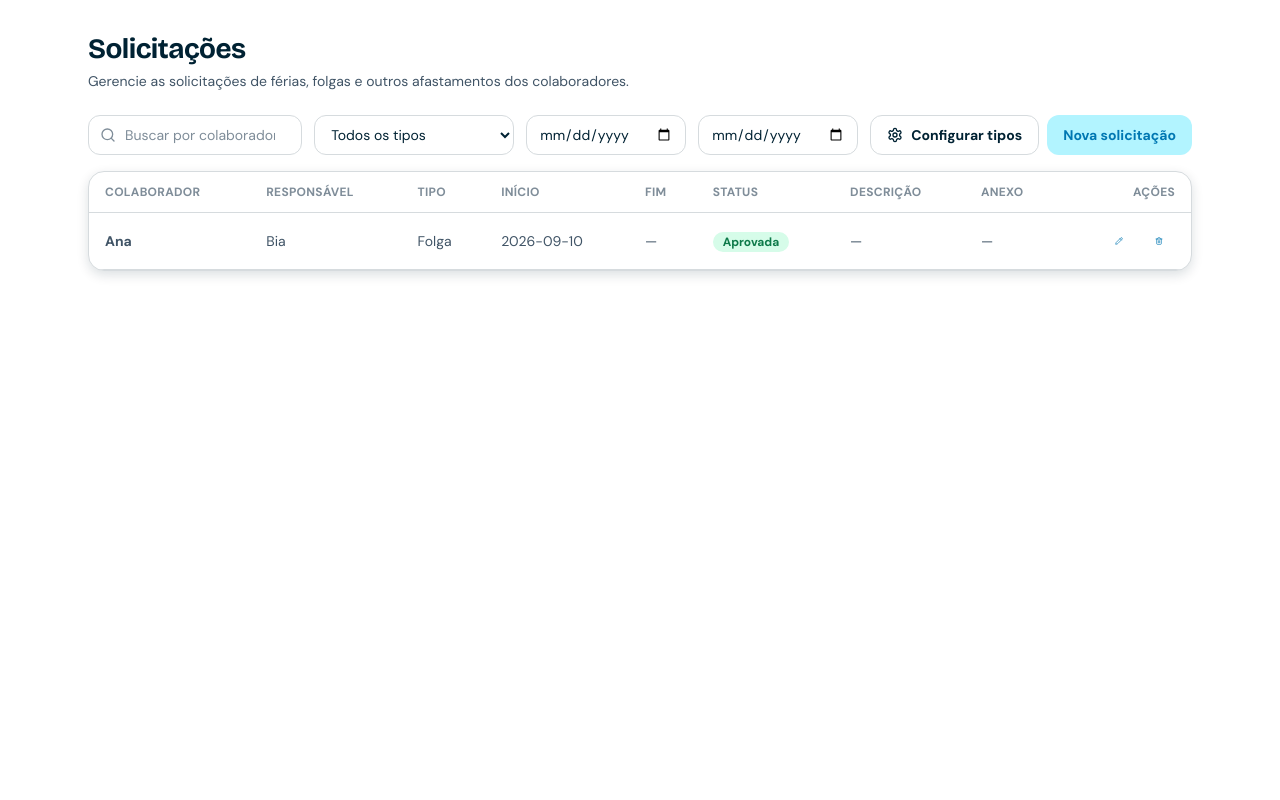
Test: Responsável da solicitação › creates a request with an optional responsible person ()
Click the button "Nova solicitação" at (1120, 135), box [1047, 115, 1192, 155]
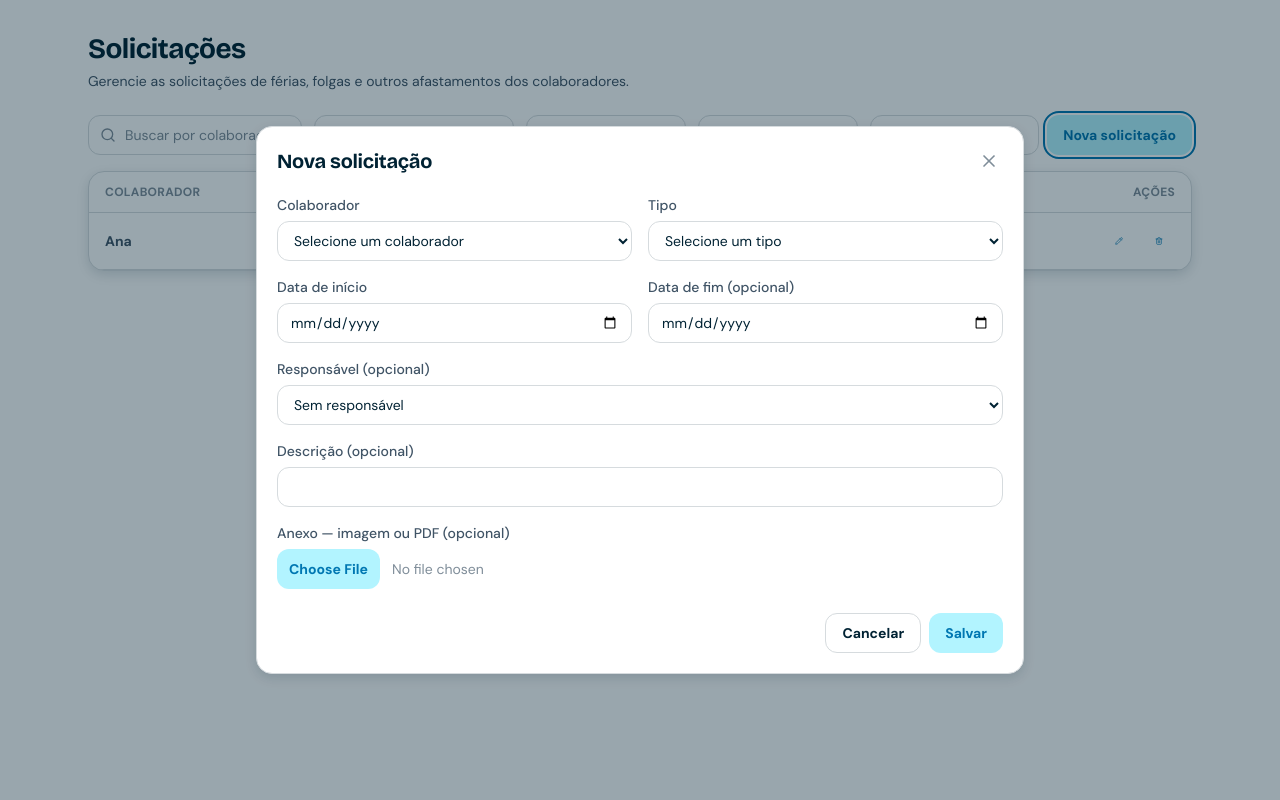
Select "Ana" in the dropdown labelled "Colaborador" at (454, 241), box [277, 221, 632, 261]
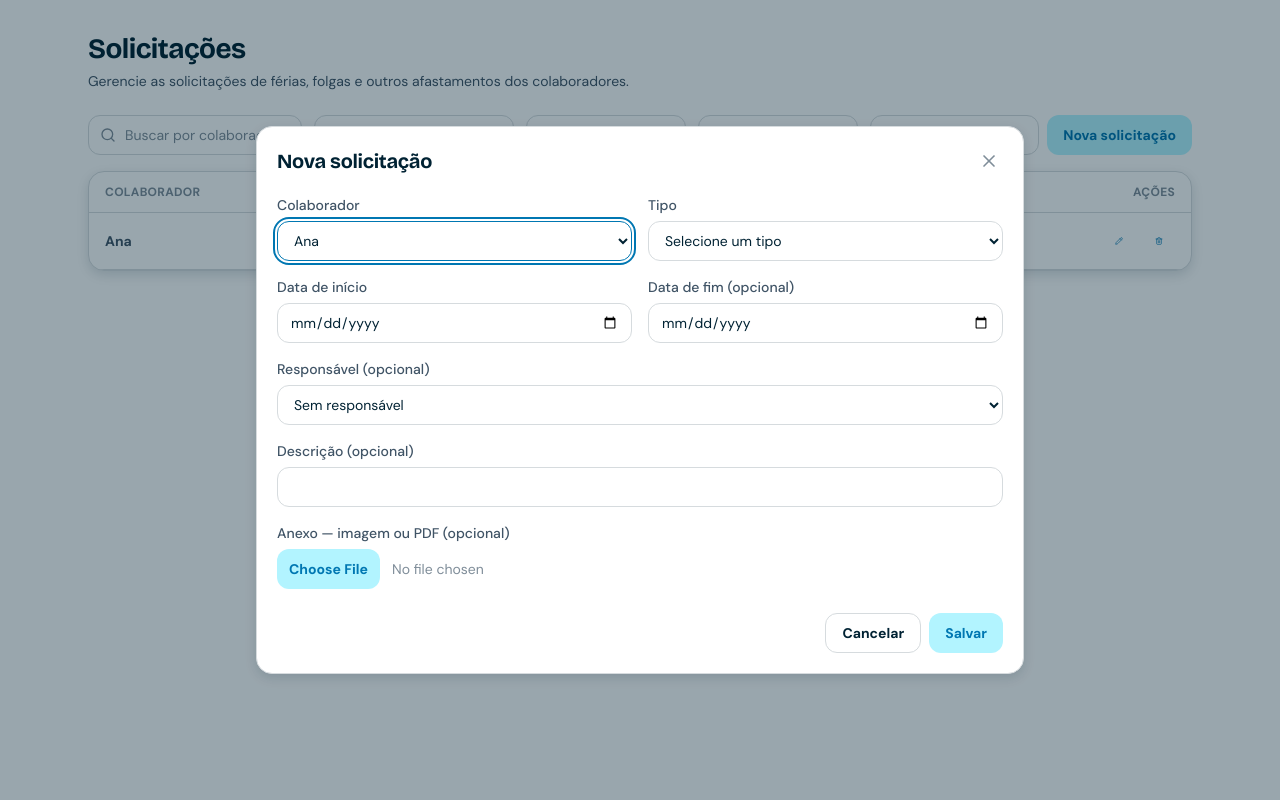
Select "Folga" in the dropdown labelled "Tipo" at (826, 241), box [648, 221, 1003, 261]
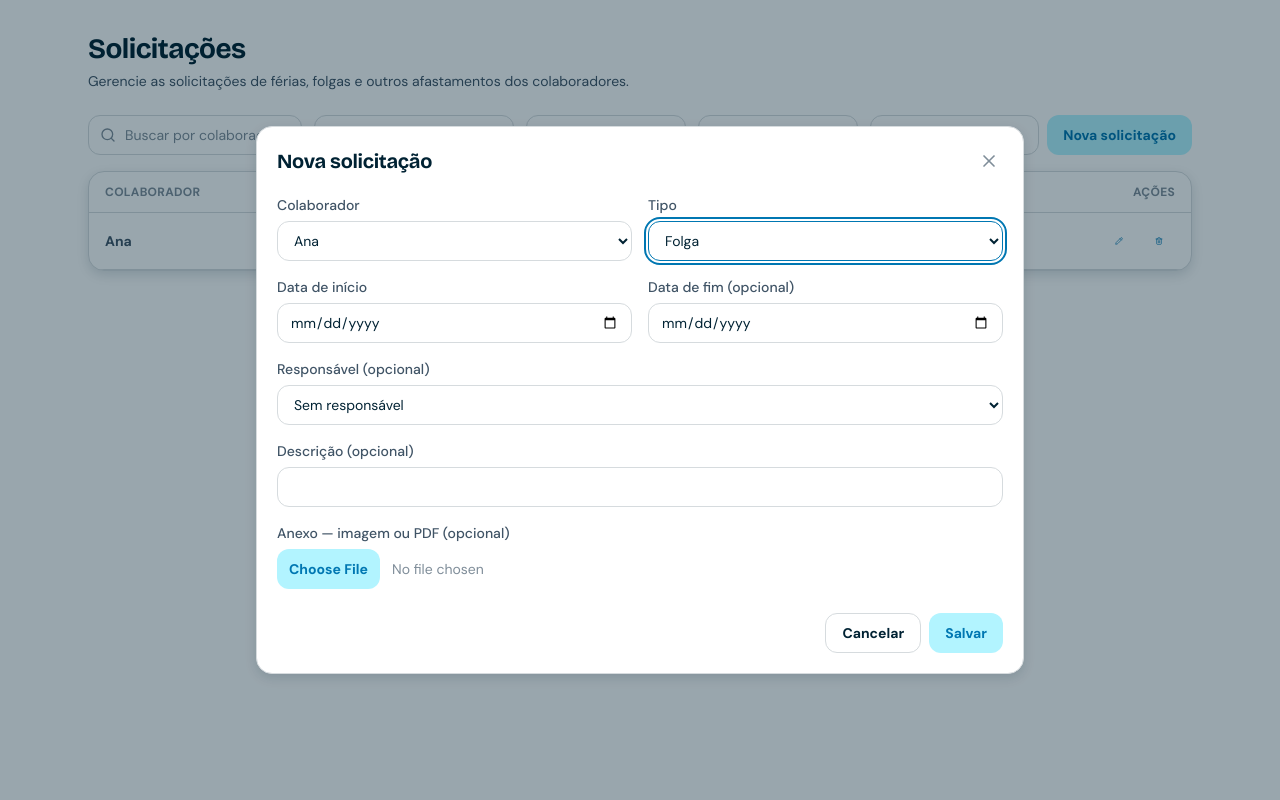
Type "2026-09-10" into the date field labelled "Data de início" at (454, 323), box [277, 303, 632, 343]
Select "Sem responsável" in the dropdown labelled "Responsável (opcional)" at (640, 405), box [277, 385, 1003, 425]
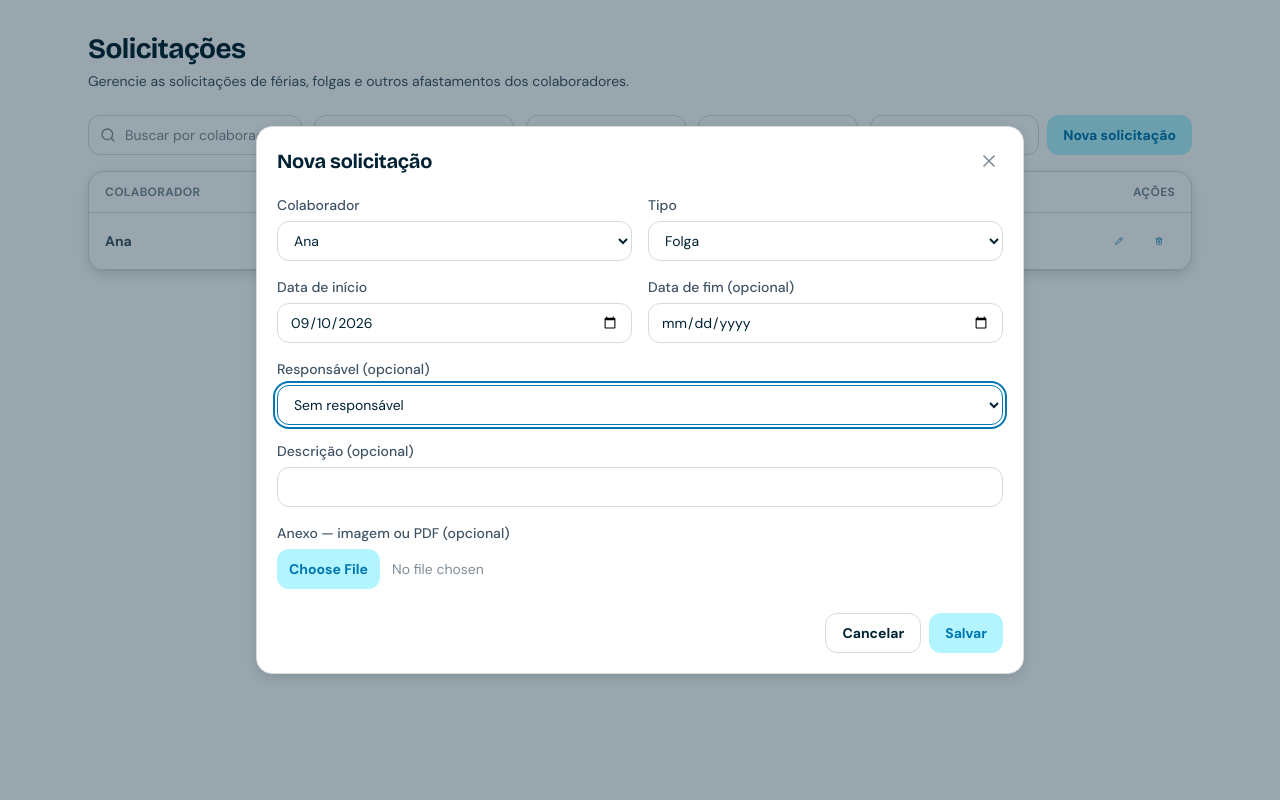
Click the button "Salvar" at (966, 633), box [929, 613, 1003, 653]
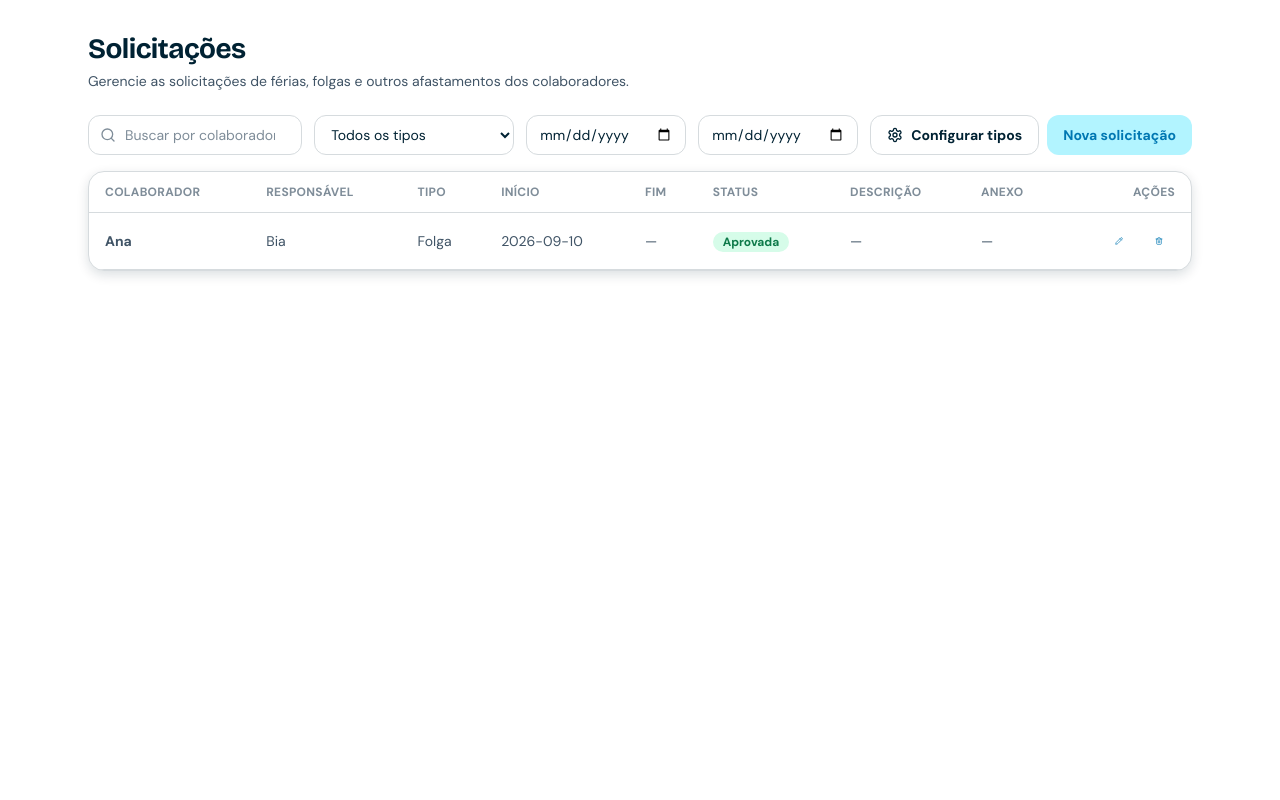
Click the button "Nova solicitação" at (1120, 135), box [1047, 115, 1192, 155]
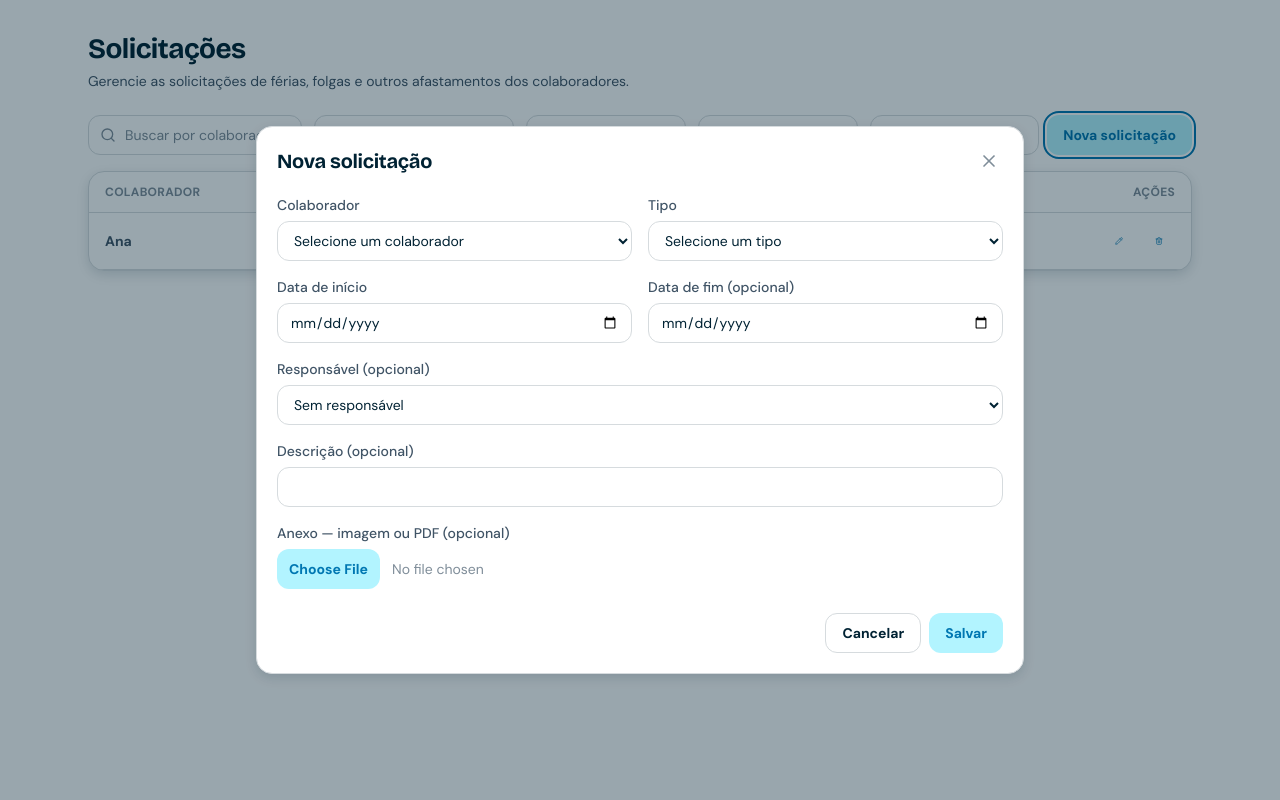
Now the dropdown labelled "Responsável (opcional)" shows "Sem responsável", box [277, 385, 1003, 425]
